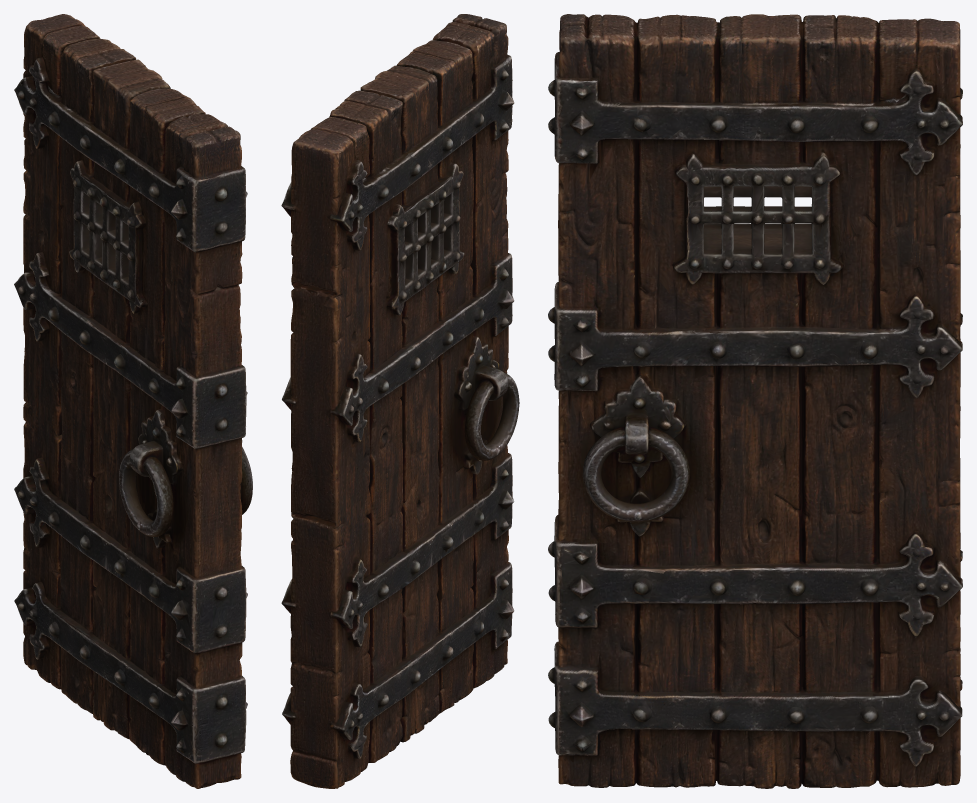
The model's file is raw_door.glb.
3 renders of one model, left to right at view 1: azimuth 30°, elevation 25°; view 2: azimuth 150°, elevation 25°; view 3: azimuth 270°, elevation 25°, orthographic. The views are drawn at different scales.
Parts seen in each view (by area): view 1: door; view 2: door; view 3: door.
Boxes of the visible parts, x1=… form: door: x1=14, y1=14, x2=252, y2=788; door: x1=281, y1=14, x2=519, y2=788; door: x1=548, y1=14, x2=962, y2=788.
Size of the model in its own units: 0.1701 by 1 by 0.4998.
1 material, 1 textured.
